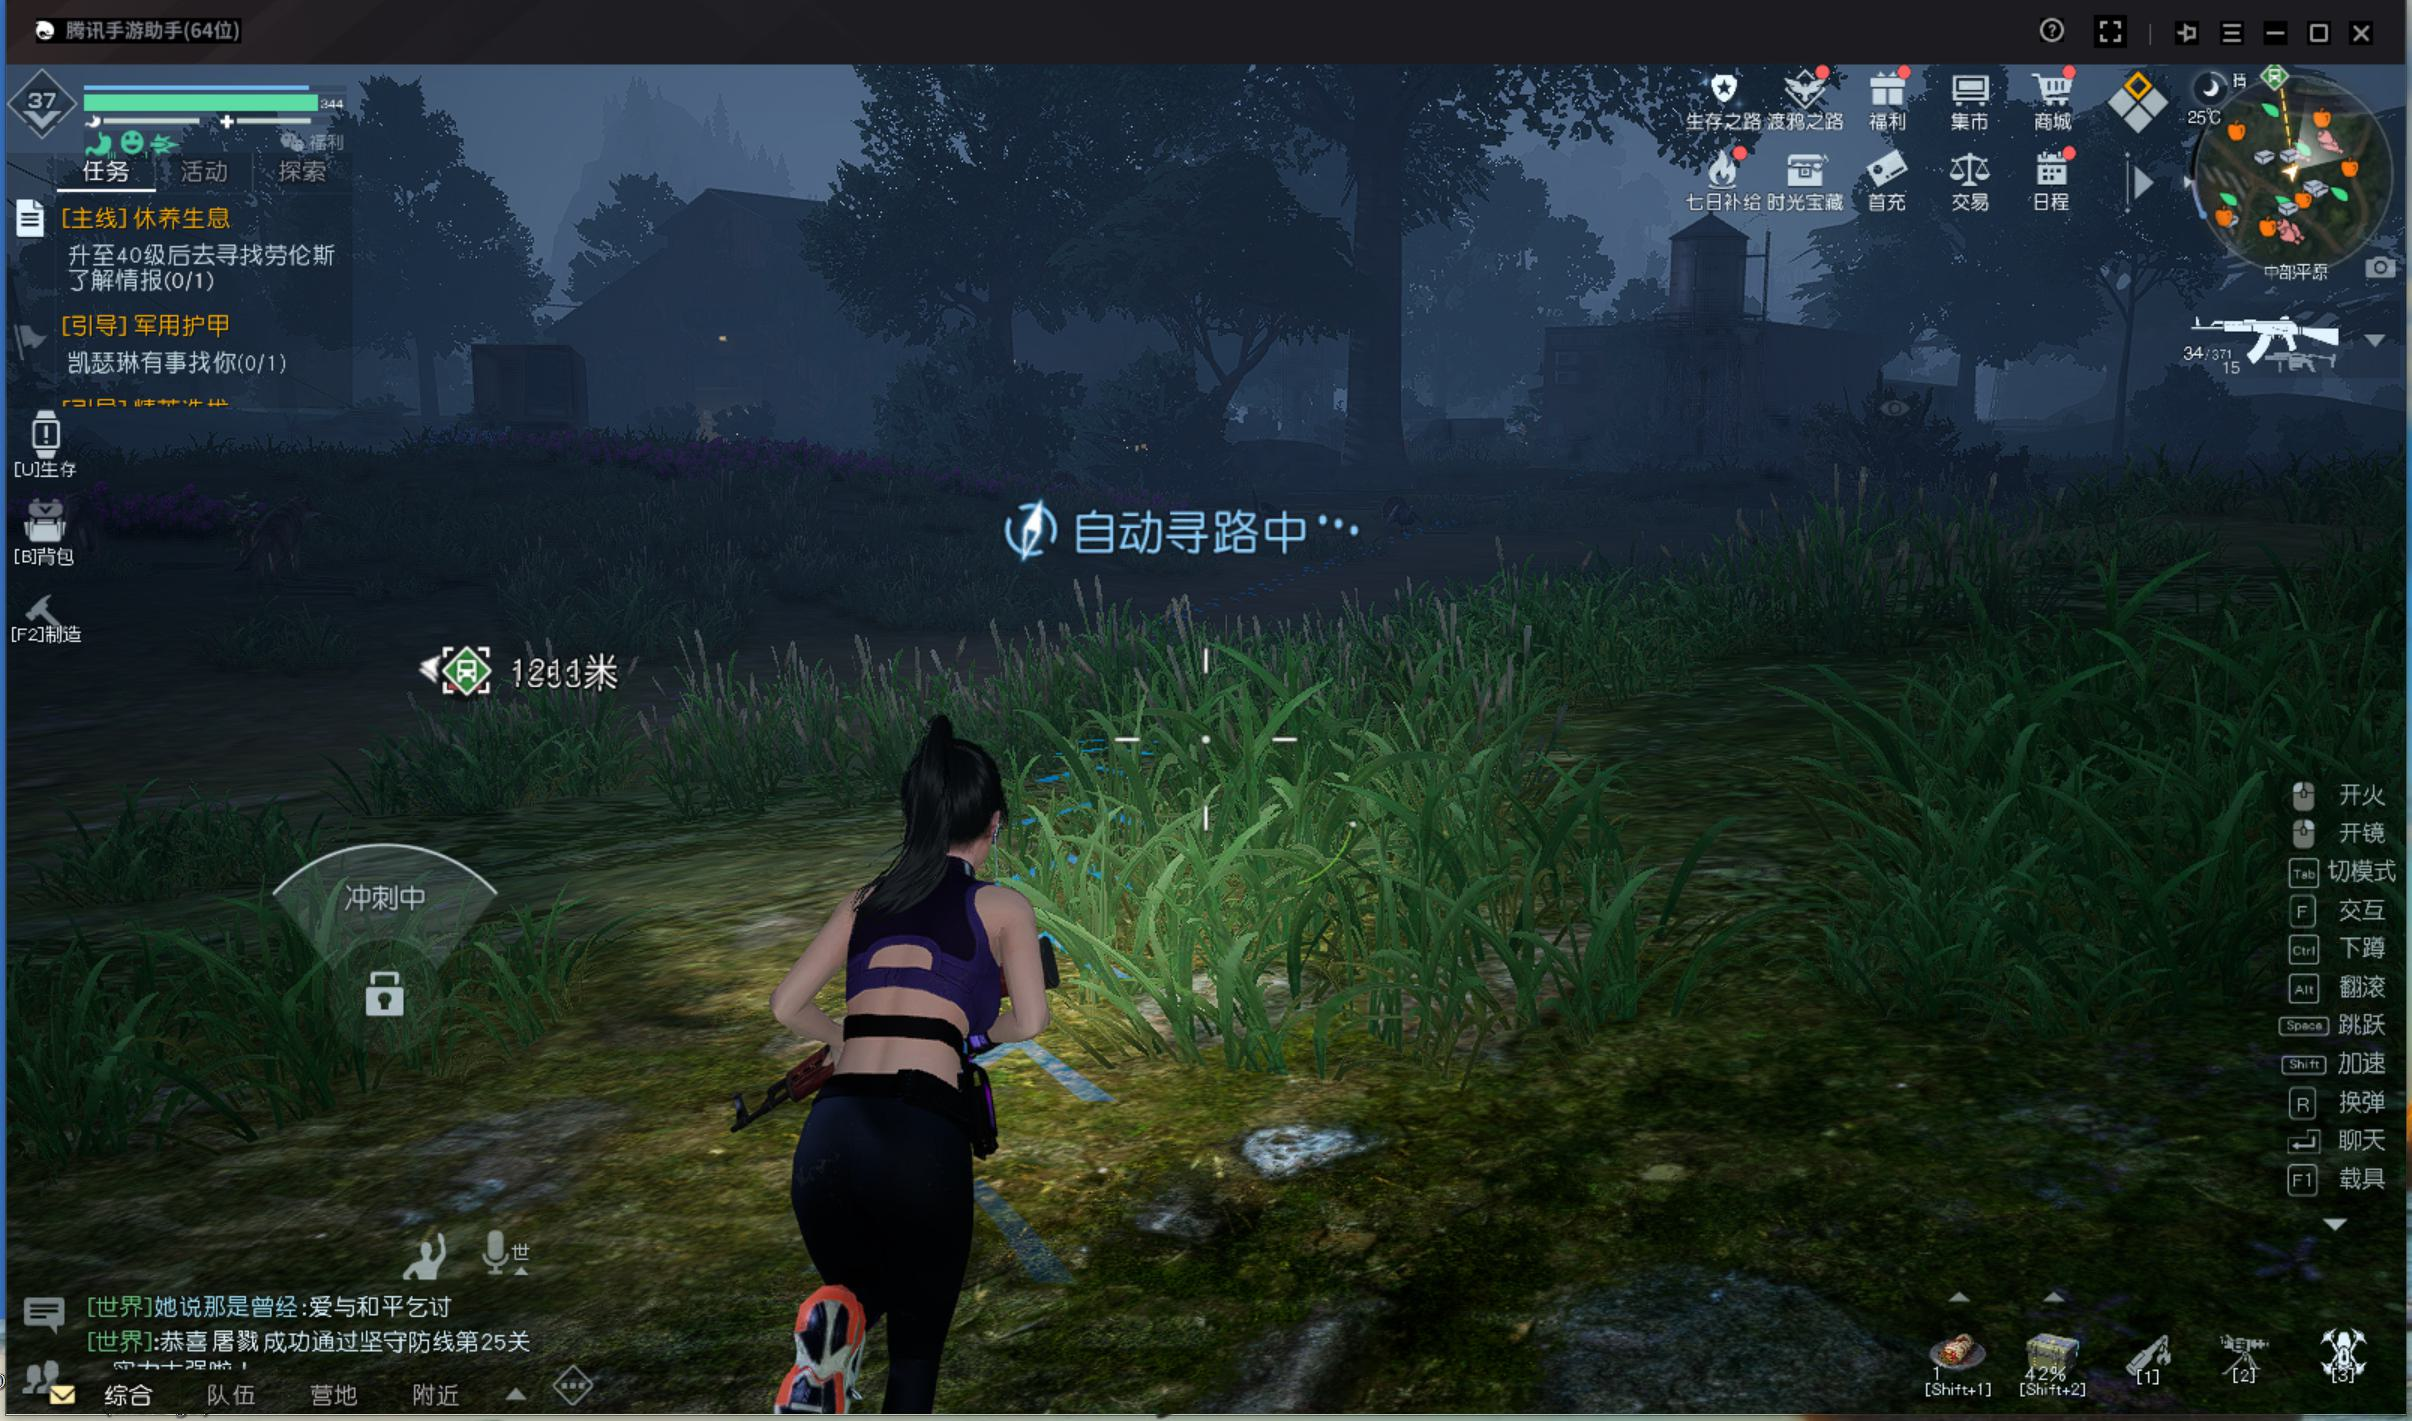tree: (1324, 257, 1407, 519), (1942, 348, 1986, 474)
